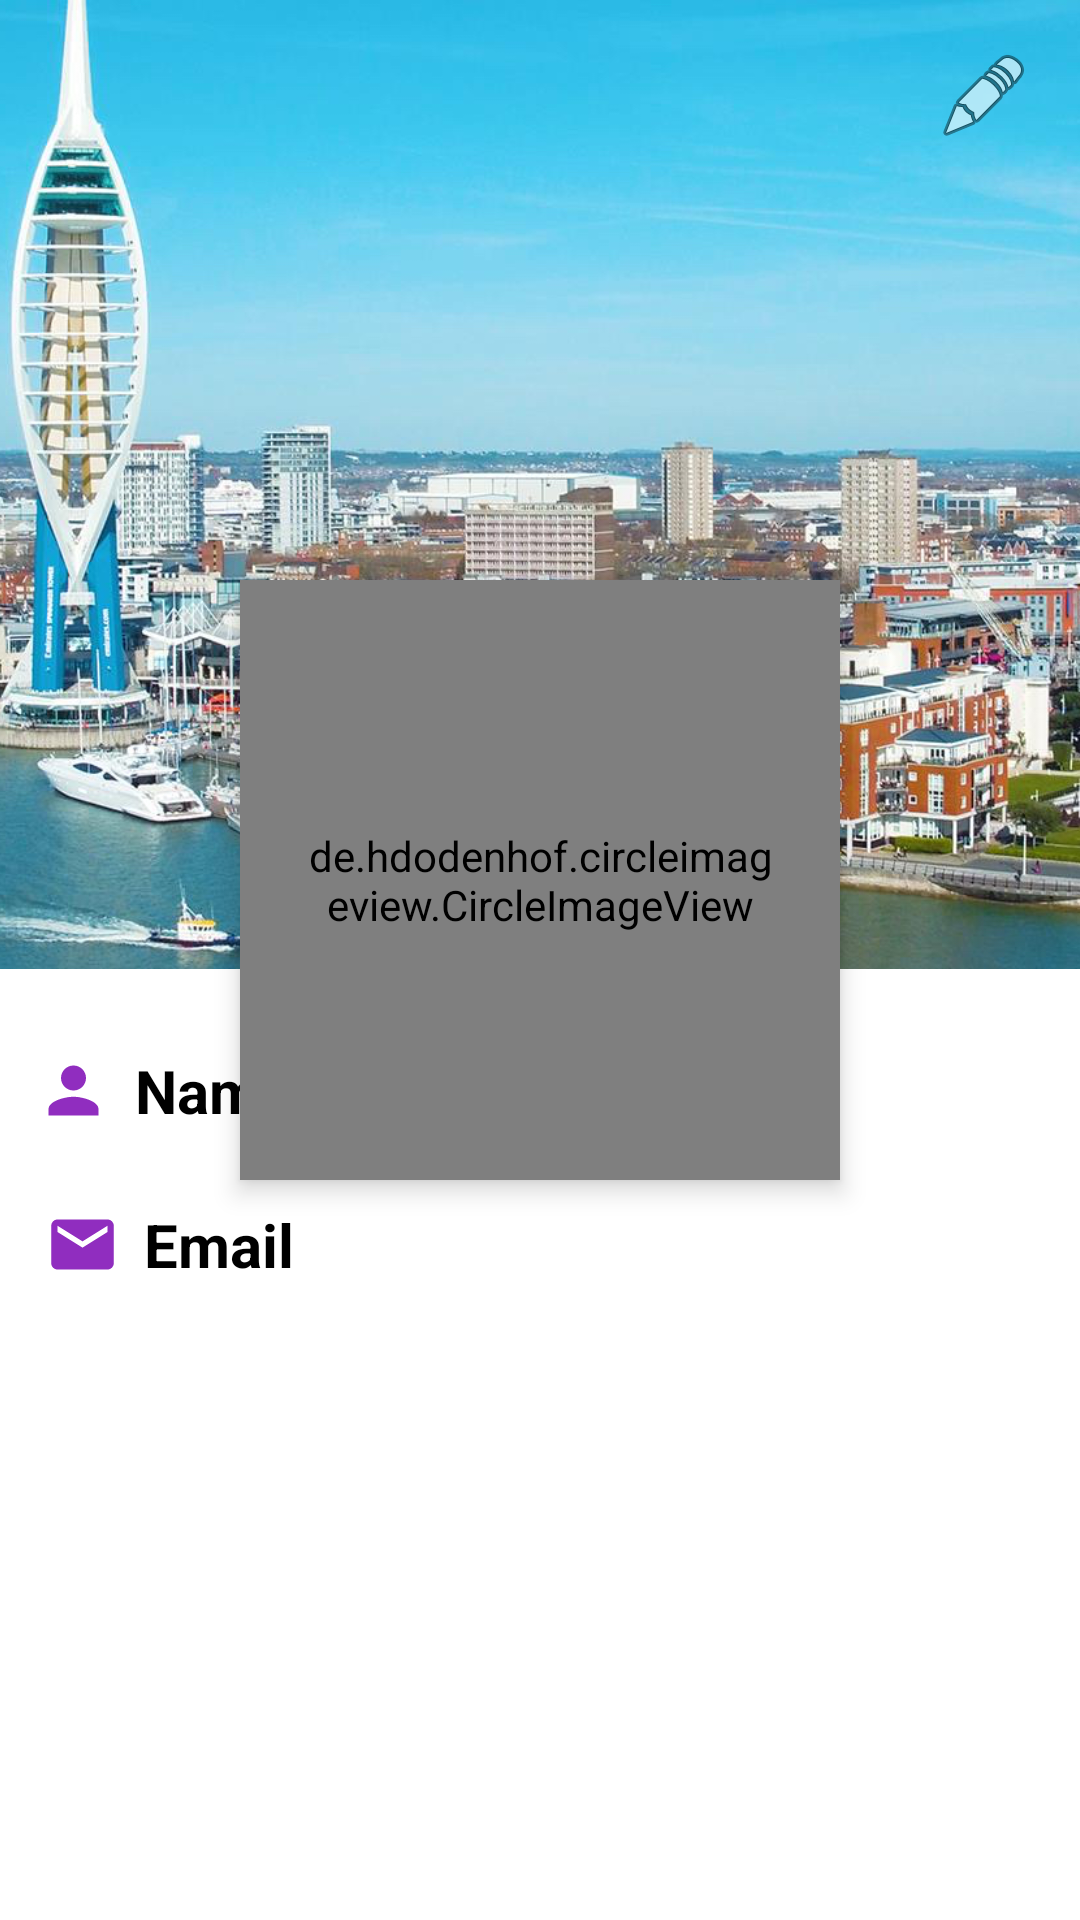

Where to tap for icons on this 1080*1920 app screen, as point (x, y):
edit: point (983, 95)
person: point (73, 1090)
